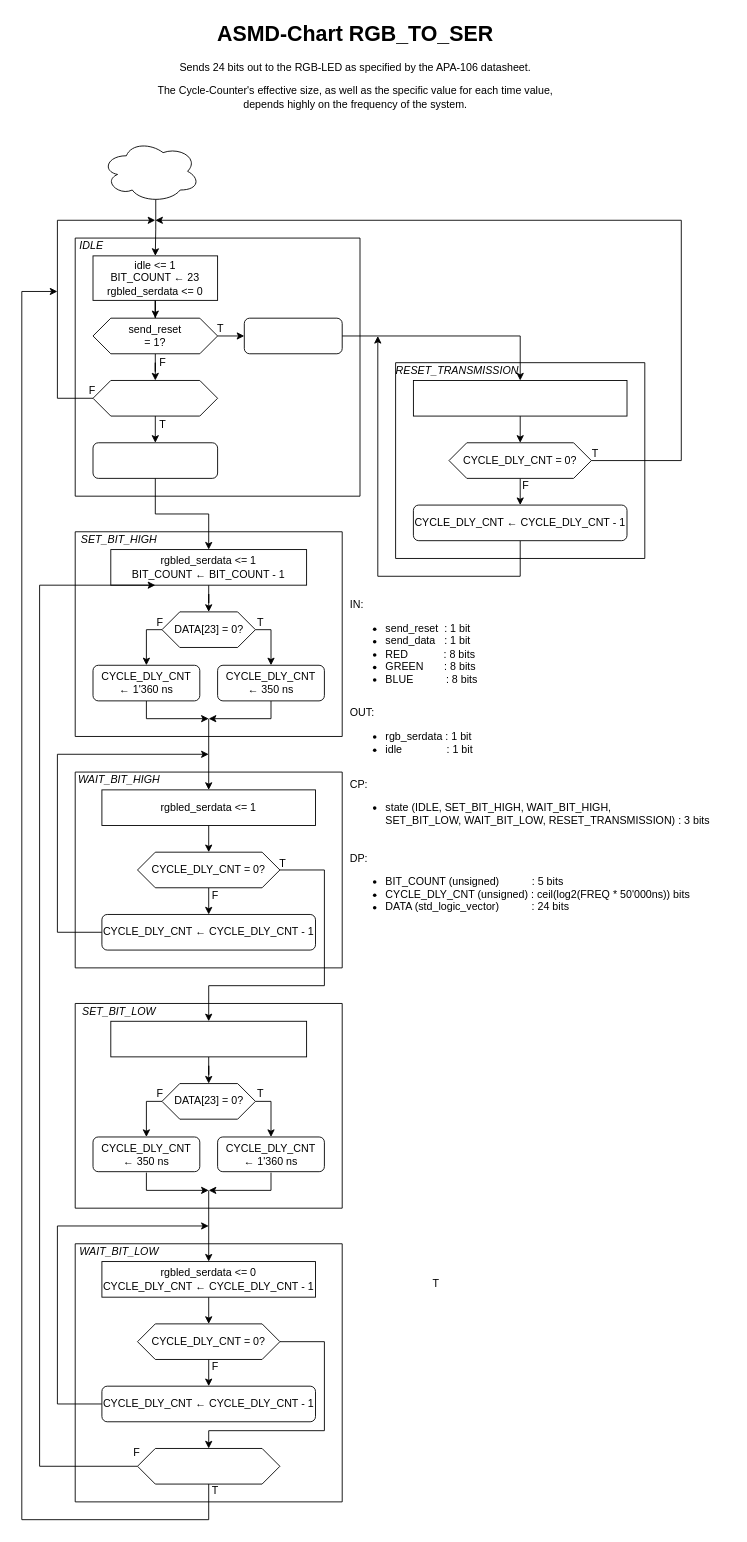
This 747x1542 diagram has some shape labels left out. Here are the shapes that lost their labels. From the top down, the centre of each, then its label:
At [150,170]: "reset = 1? (POR)".
At [292,335]: "CYCLE_DLY_CNT ← 50'000 ns".
At [155,398]: "send_data = 1?".
At [520,398]: "rgbled_serdata <= 0".
At [155,460]: "DATA ← RED, GREEN, BLUE".
At [208,1038]: "rgbled_serdata <= 0 DATA ← DATA << 1".
At [208,1466]: "BIT_COUNT = 0?".
